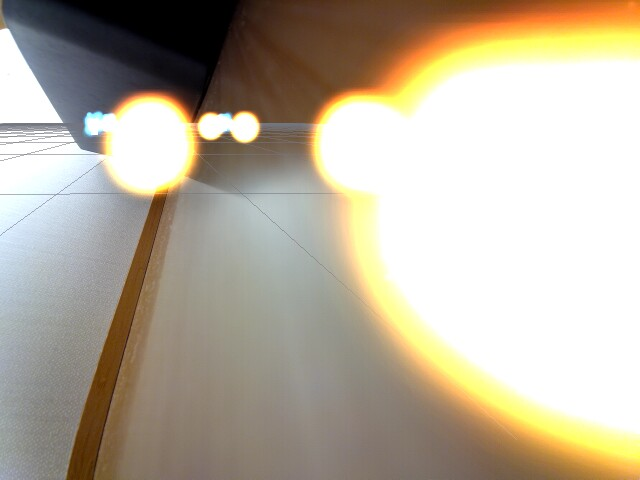firebig: (410, 36, 640, 455)
